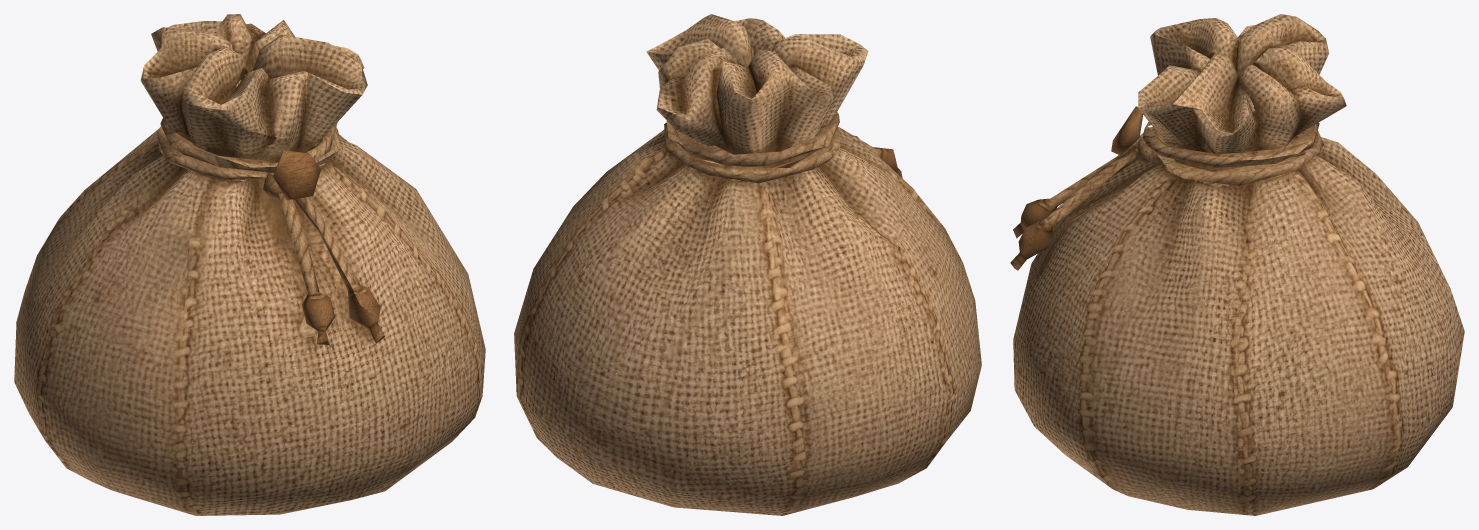
The model's file is loot_satchel_t1.glb.
3 views of the same model, side by side, from view 1: azimuth 30°, elevation 25°; view 2: azimuth 150°, elevation 25°; view 3: azimuth 270°, elevation 25° (orthographic). The views are drawn at different scales.
Visible parts, largest first — view 1: LootSatchelT1; view 2: LootSatchelT1; view 3: LootSatchelT1.
Part boxes in pixels (x1,y1,x2,y2): LootSatchelT1: [14, 14, 485, 515]; LootSatchelT1: [514, 14, 981, 515]; LootSatchelT1: [1010, 14, 1464, 515].
Bounding box in the file's own units: 0.5 × 0.5078 × 0.4854.
Materials: 1 (1 with a texture image).
